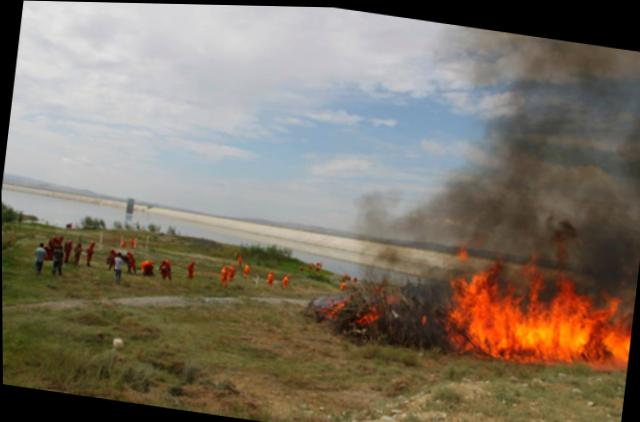fire: (442, 239, 638, 375), (359, 285, 407, 331), (325, 291, 346, 319)
